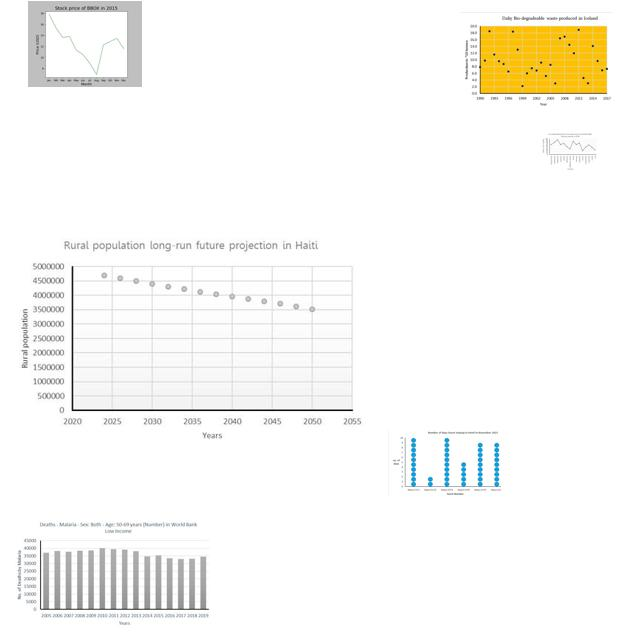Graph: (19, 238, 364, 442), (12, 518, 212, 629), (461, 12, 613, 108), (28, 1, 142, 87), (388, 430, 501, 497), (541, 132, 598, 171)
